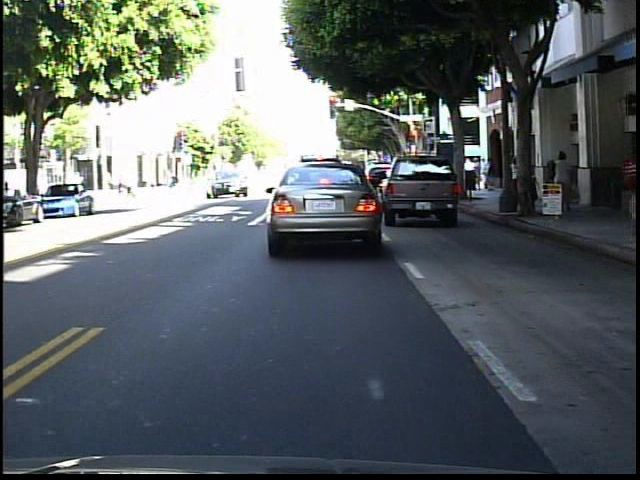person: (552, 149, 576, 209), (506, 150, 523, 211), (562, 151, 577, 205)
